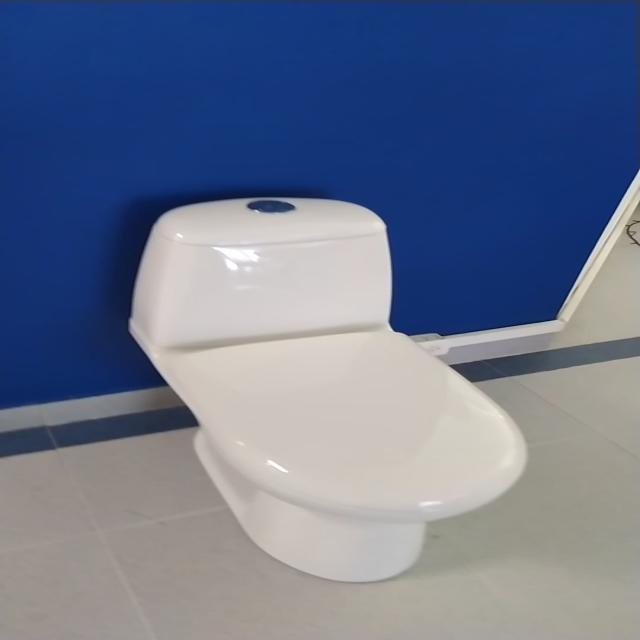toilet: (126, 196, 528, 583)
